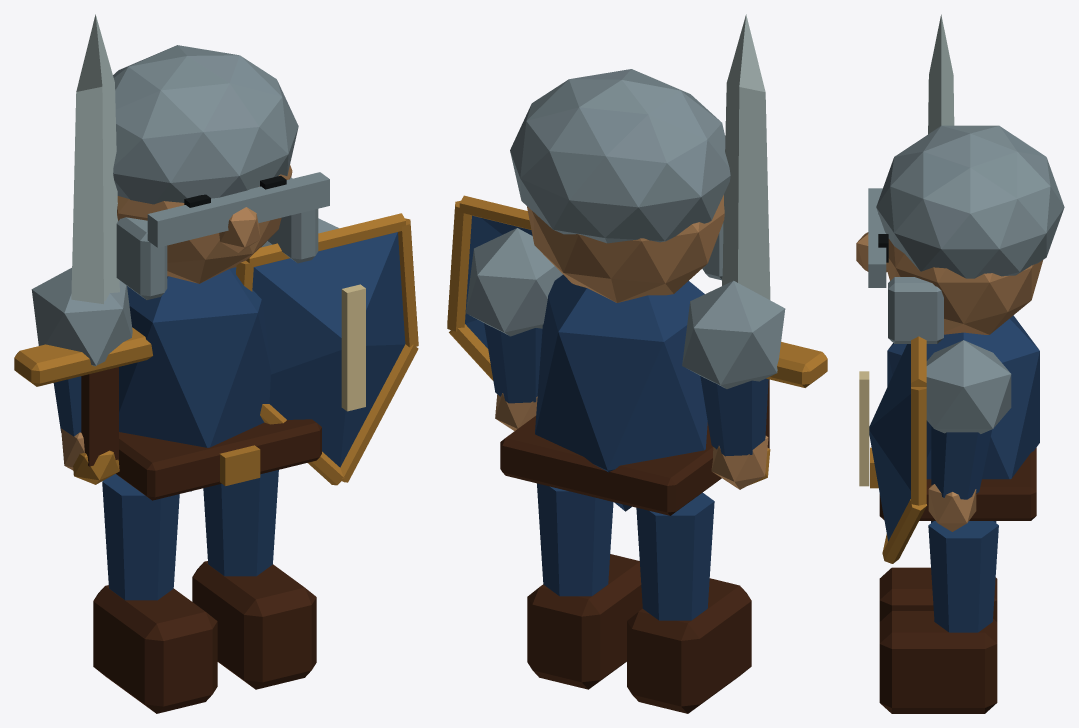
The model's file is Warrior.fbx.
The picture shows the model from 3 angles, left to right: view 1: azimuth 30°, elevation 25°; view 2: azimuth 150°, elevation 25°; view 3: azimuth 270°, elevation 25°; orthographic projection. The views are drawn at different scales.
Visible parts, largest first — view 1: Head_Mesh, Visual_Mesh, LeftArm_Mesh, RightLeg_Mesh, Grip_Mesh, LeftLeg_Mesh, RightArm_Mesh; view 2: Head_Mesh, Visual_Mesh, RightLeg_Mesh, LeftLeg_Mesh, LeftArm_Mesh, RightArm_Mesh, Grip_Mesh; view 3: Head_Mesh, LeftArm_Mesh, LeftLeg_Mesh, Visual_Mesh, RightLeg_Mesh, Grip_Mesh.
Boxes of the visible parts, left/top/right/bottom form: Head_Mesh: left=113, top=45, right=329, bottom=299; Visual_Mesh: left=116, top=267, right=321, bottom=500; LeftArm_Mesh: left=236, top=213, right=418, bottom=485; RightLeg_Mesh: left=93, top=474, right=217, bottom=713; Grip_Mesh: left=14, top=14, right=152, bottom=484; LeftLeg_Mesh: left=192, top=470, right=316, bottom=689; RightArm_Mesh: left=31, top=268, right=132, bottom=470; Head_Mesh: left=510, top=69, right=730, bottom=302; Visual_Mesh: left=500, top=274, right=721, bottom=515; RightLeg_Mesh: left=627, top=492, right=751, bottom=713; LeftLeg_Mesh: left=527, top=483, right=642, bottom=689; LeftArm_Mesh: left=447, top=195, right=562, bottom=430; RightArm_Mesh: left=682, top=280, right=785, bottom=489; Grip_Mesh: left=722, top=14, right=827, bottom=485; Head_Mesh: left=856, top=125, right=1064, bottom=343; LeftArm_Mesh: left=859, top=336, right=1011, bottom=563; LeftLeg_Mesh: left=879, top=521, right=998, bottom=713; Visual_Mesh: left=870, top=315, right=1039, bottom=520; RightLeg_Mesh: left=879, top=521, right=997, bottom=621; Grip_Mesh: left=928, top=14, right=954, bottom=134.
Size of the model in its own units: 0.711 by 1.22 by 0.3713.
